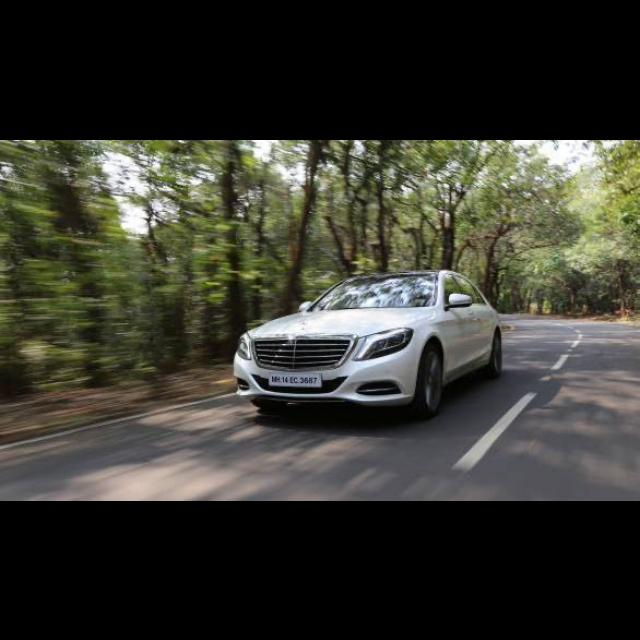carPlate: (269, 372, 321, 386)
